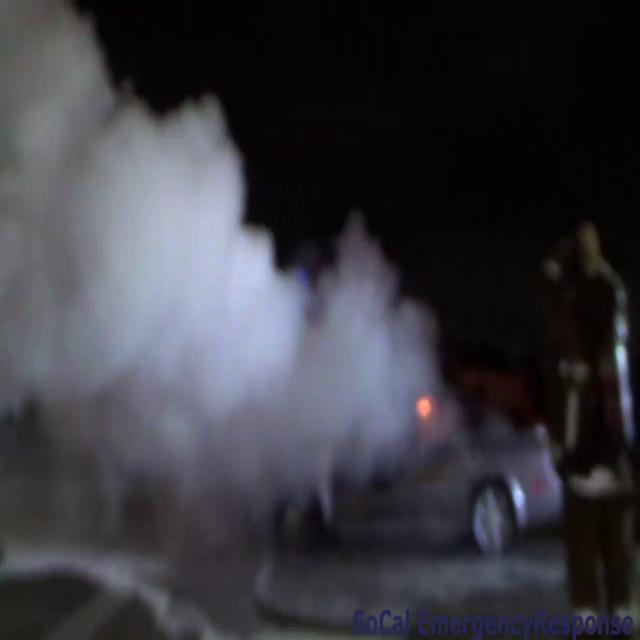Smoke: (0, 68, 452, 638)
